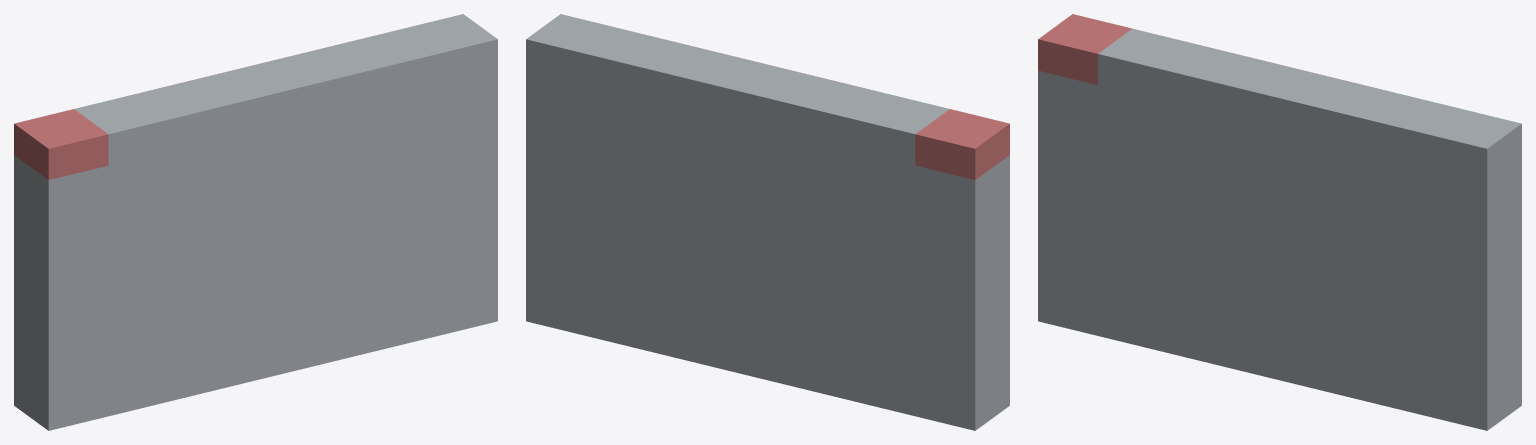
Rendered from step_02.glb.
3 renders of one model, left to right at view 1: azimuth 30°, elevation 25°; view 2: azimuth 150°, elevation 25°; view 3: azimuth 330°, elevation 25°, orthographic.
Visible parts, largest first — view 1: part__the 10 plate, removed__the 10 plate; view 2: part__the 10 plate, removed__the 10 plate; view 3: part__the 10 plate, removed__the 10 plate.
Part boxes in pixels (x1,y1,x2,y2): part__the 10 plate: (14, 14, 497, 430); removed__the 10 plate: (14, 109, 108, 179); part__the 10 plate: (526, 14, 1009, 430); removed__the 10 plate: (915, 109, 1009, 179); part__the 10 plate: (1038, 28, 1521, 430); removed__the 10 plate: (1038, 14, 1131, 84).
Size of the model in its own units: 75 by 45 by 10.
